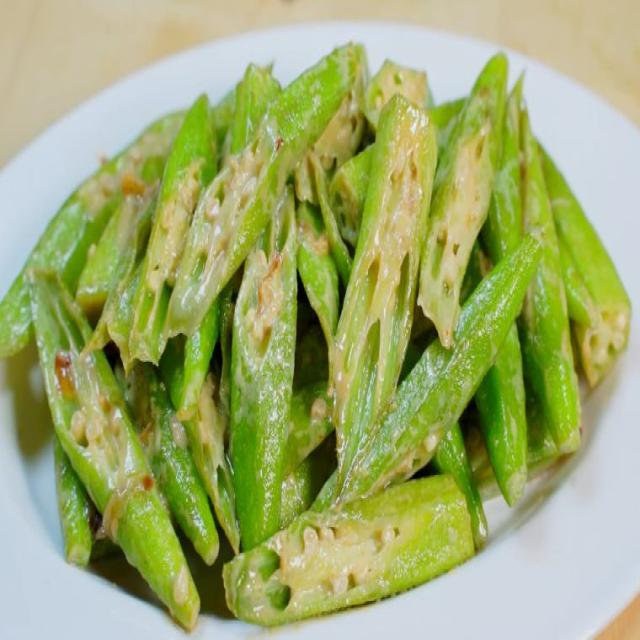dau bap: (0, 45, 629, 628)
